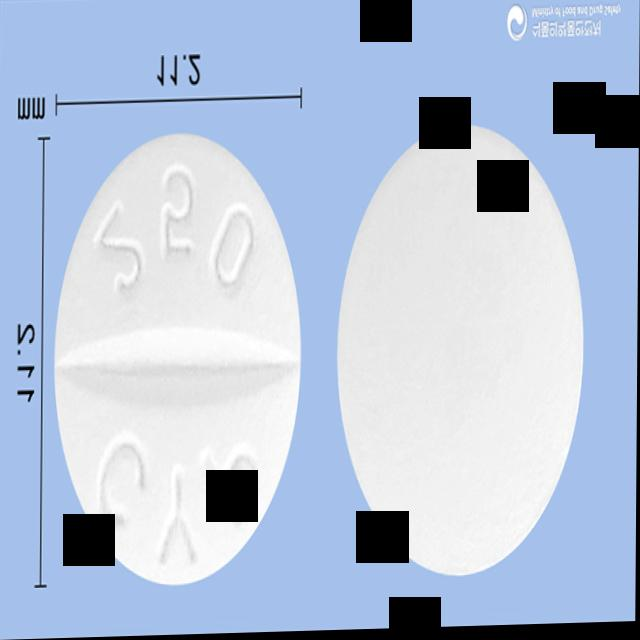Cypro: (52, 130, 304, 595), (335, 124, 586, 585)
